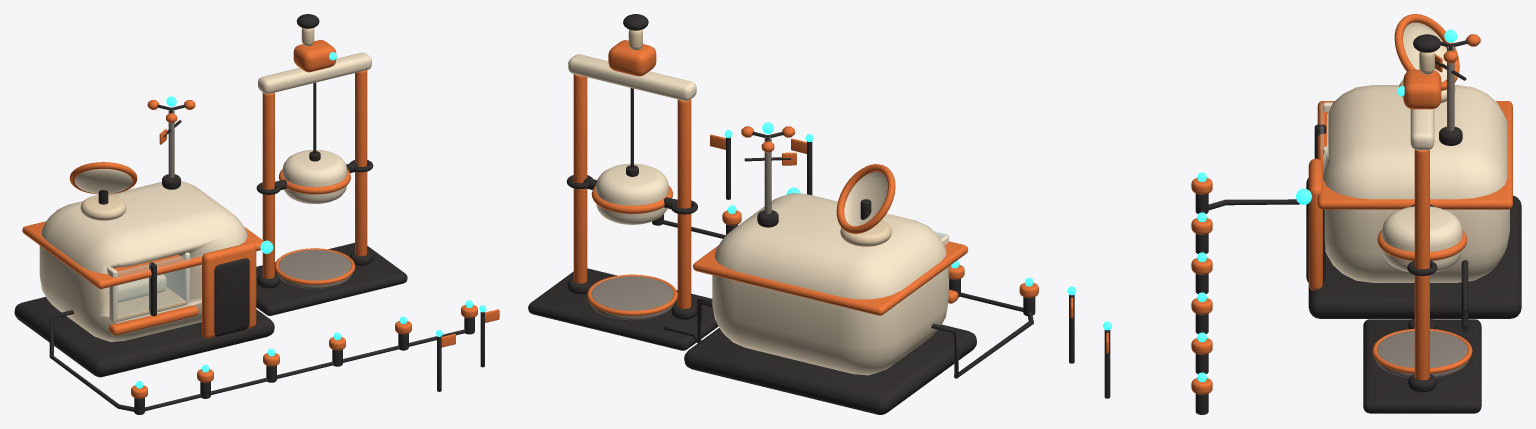
Rendered from geolocator.glb.
3 renders of one model, left to right at view 1: azimuth 30°, elevation 25°; view 2: azimuth 150°, elevation 25°; view 3: azimuth 270°, elevation 25°, orthographic. The views are drawn at different scales.
Visible parts, largest first — view 1: Cube.001, Cube, Cube.016, Cube.009, Cube.002, Cube.013, Cylinder.010, Cylinder.008, Cube.012, Cylinder.006, Cylinder.004, Cube.017 (+12 smaller); view 2: Cube.001, Cube, Cube.016, Cube.002, Cylinder.010, Cylinder.006, Cylinder.008, Cylinder.004, Cube.017, Sphere.002, Torus, Cube.018 (+7 smaller); view 3: Cube.001, Cube, Cube.016, Cylinder.008, Cube.002, Cylinder.010, Cylinder.004, Cube.012, Cube.018, Torus, Cube.017, Sphere.002 (+8 smaller).
Part boxes in pixels (<box>): Cube.001: <box>39,181,247,341</box>; Cube: <box>14,297,274,377</box>; Cube.016: <box>256,242,407,315</box>; Cube.009: <box>114,254,190,323</box>; Cube.002: <box>22,221,263,288</box>; Cube.013: <box>214,258,249,336</box>; Cylinder.010: <box>282,150,347,203</box>; Cylinder.008: <box>355,70,367,256</box>; Cube.012: <box>202,242,256,338</box>; Cylinder.006: <box>262,92,274,278</box>; Cylinder.004: <box>277,250,352,288</box>; Cube.017: <box>258,52,371,94</box>; Cube.001: <box>712,193,948,375</box>; Cube: <box>684,324,976,414</box>; Cube.016: <box>528,268,718,350</box>; Cube.002: <box>693,241,968,315</box>; Cylinder.010: <box>596,163,668,224</box>; Cylinder.006: <box>677,99,691,308</box>; Cylinder.008: <box>573,74,587,283</box>; Cylinder.004: <box>590,276,674,320</box>; Cube.017: <box>568,54,696,100</box>; Sphere.002: <box>844,171,887,226</box>; Torus: <box>836,164,895,233</box>; Cube.018: <box>608,40,656,76</box>; Cube.001: <box>1323,85,1509,282</box>; Cube: <box>1308,195,1521,318</box>; Cube.016: <box>1363,319,1481,413</box>; Cylinder.008: <box>1414,149,1429,380</box>; Cube.002: <box>1317,101,1512,209</box>; Cylinder.010: <box>1382,206,1462,272</box>; Cylinder.004: <box>1375,330,1468,377</box>; Cube.012: <box>1308,158,1322,290</box>; Cube.018: <box>1403,69,1441,109</box>; Torus: <box>1394,14,1459,90</box>; Cube.017: <box>1410,109,1434,150</box>; Sphere.002: <box>1403,22,1446,82</box>.
Bounding box in the file's own units: 2.13 × 1.55 × 1.92.
